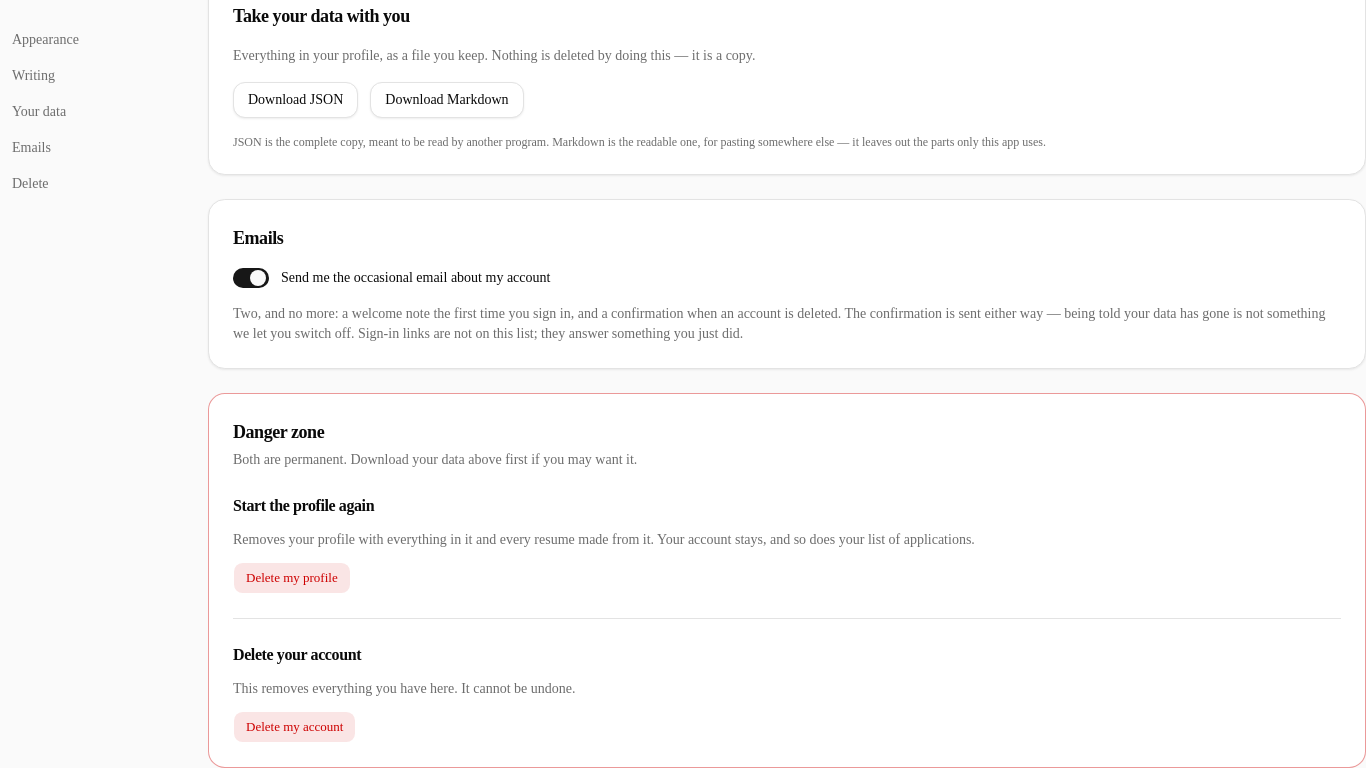
Test: what the confirmation counts › names how many resumes go with the account
(page scrolled)
Click the button "Delete my account".
click(295, 727)  # box x1=233 y1=711 x2=356 y2=743
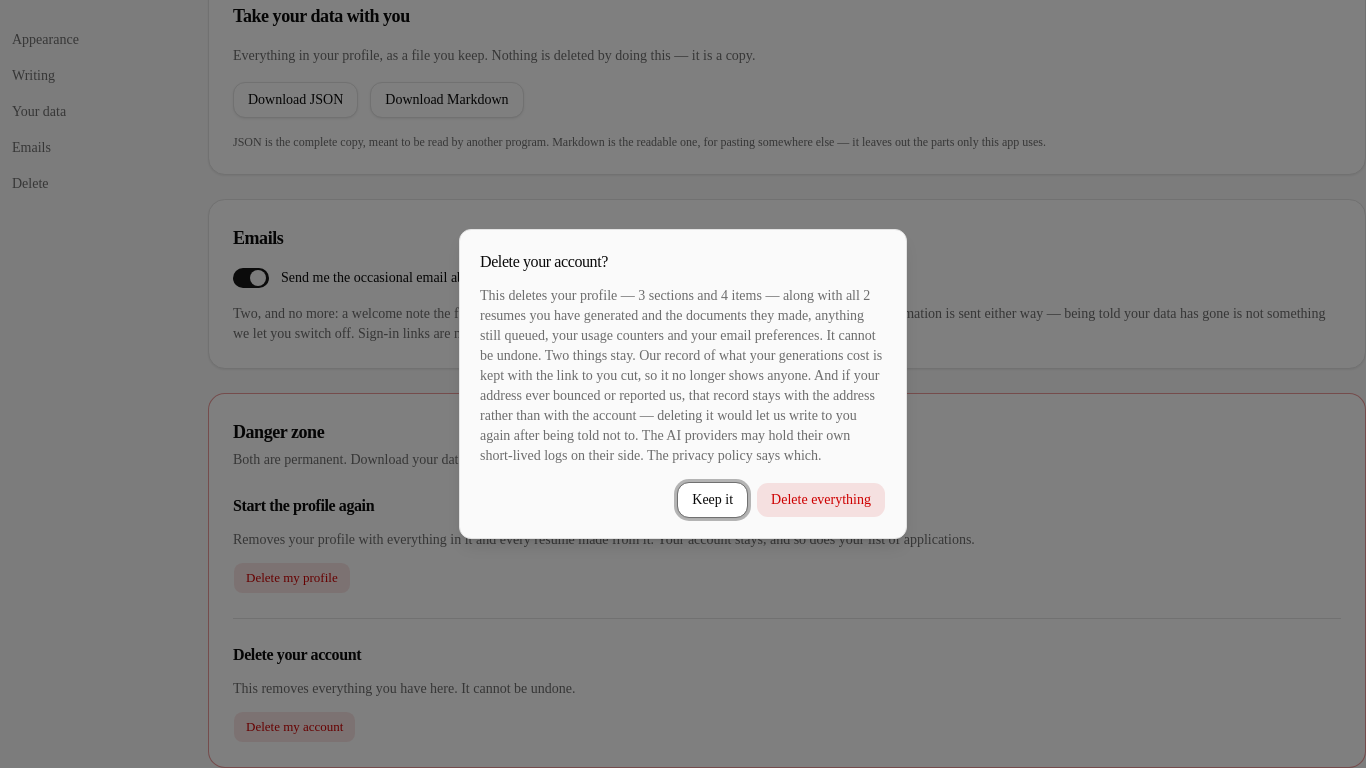
Expected: the dialog shows "all 2 resumes", x1=480 y1=288 x2=882 y2=463
